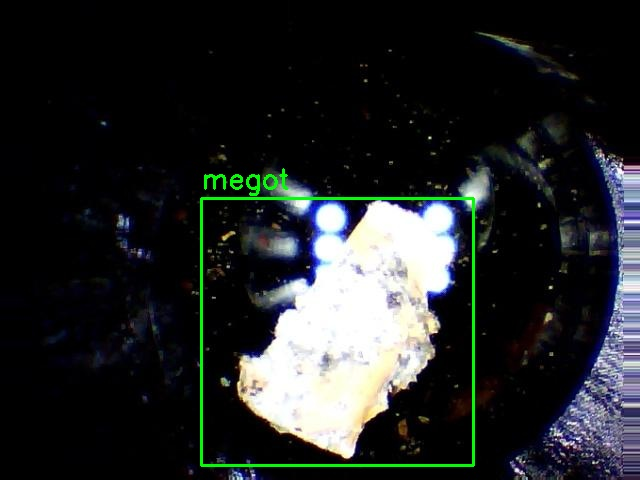megot: (201, 198, 473, 465)
